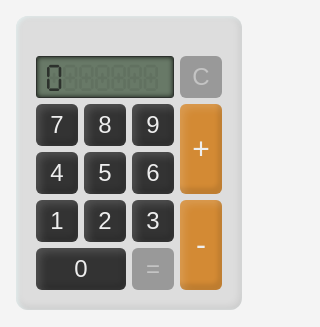
Test: inputs work as expected › pressing '1' button change display to it's digit
The image size is (320, 327).
Click the button "1" at (57, 221), box [36,200,78,242]
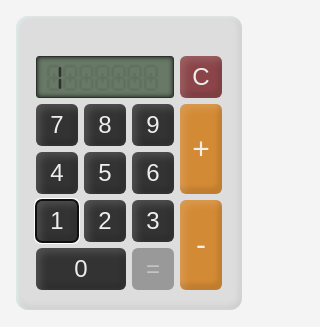
Expected: the field holds "1", [47,56,163,98]
